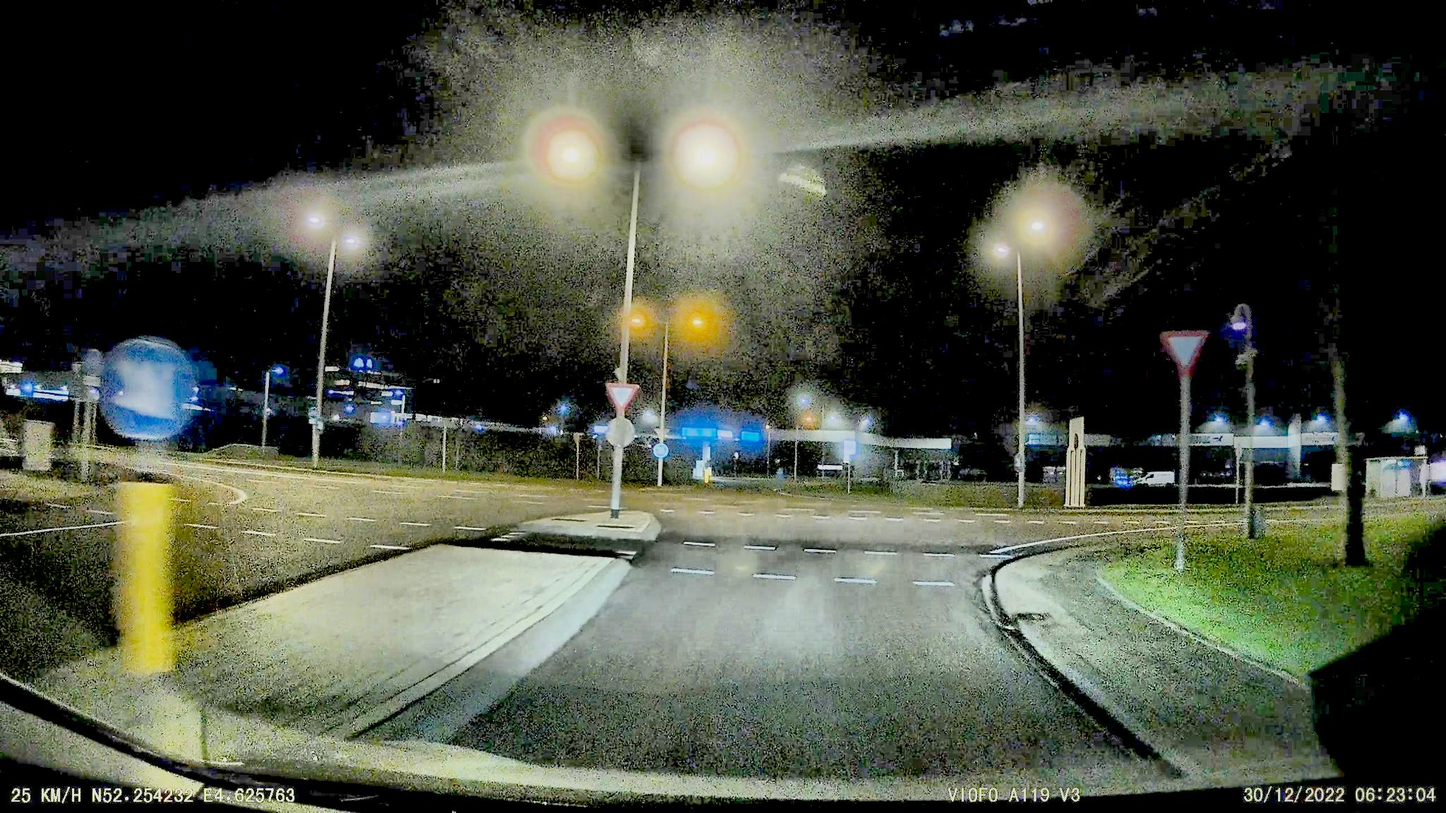Roads: (454, 489, 1178, 777), (173, 474, 609, 620)
